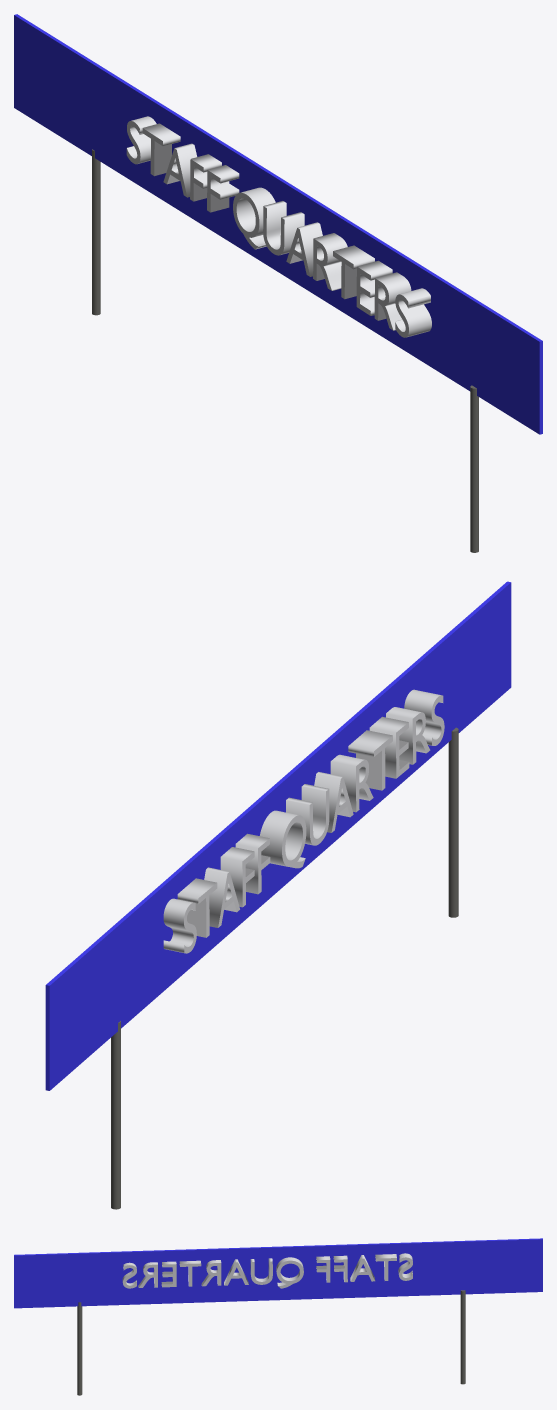
The model's file is staffbanner.glb.
3 renders of one model, top to bottom at view 1: azimuth 30°, elevation 25°; view 2: azimuth 150°, elevation 25°; view 3: azimuth 270°, elevation 25°, orthographic. The views are drawn at different scales.
Parts seen in each view (by area): view 1: Cube, Text, Cylinder.001, Cylinder; view 2: Cube, Text, Cylinder.001, Cylinder; view 3: Cube, Text, Cylinder, Cylinder.001.
Part boxes in pixels (x1,y1,x2,y2): Cube: (14,14,542,434); Text: (126,116,431,337); Cylinder.001: (470,385,478,552); Cylinder: (92,149,100,315); Cube: (45,581,511,1090); Text: (163,689,444,953); Cylinder.001: (448,727,458,917); Cylinder: (111,1021,120,1209); Cube: (14,1238,542,1308); Text: (122,1253,412,1288); Cylinder: (460,1290,465,1384); Cylinder.001: (77,1302,82,1395).
Bounding box in the file's own units: 1.48 × 5.38 × 18.21.
